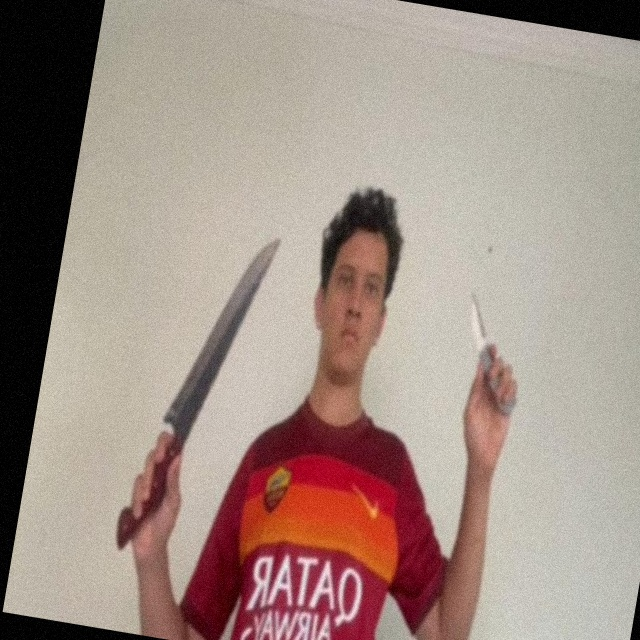Sharp-Object: (162, 222, 282, 440), (464, 288, 496, 349)
